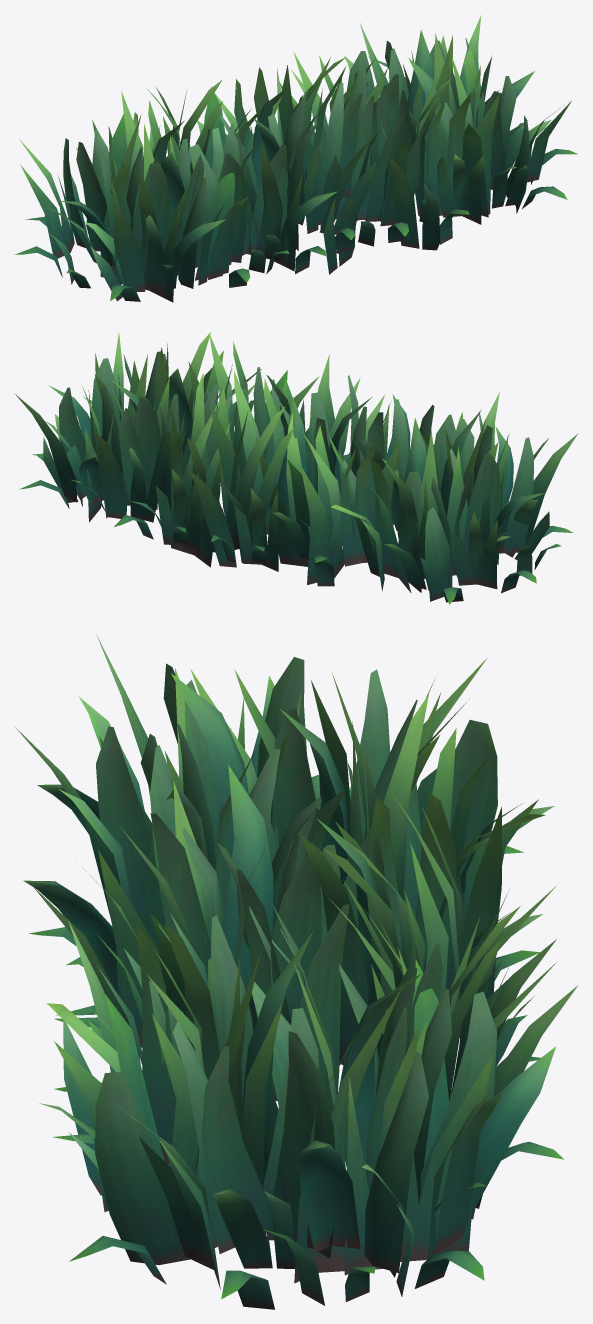
Rendered from pref_sm_4v4beachtech_WSJ_techgrass_alpha_yellow03_lv2.fbx.
The picture shows the model from 3 angles, top to bottom: view 1: azimuth 30°, elevation 25°; view 2: azimuth 150°, elevation 25°; view 3: azimuth 270°, elevation 25°; orthographic projection. The views are drawn at different scales.
Visible parts, largest first — view 1: pref_sm_4v4beachtech_WSJ_techgrass_alpha_yellow03_lv2; view 2: pref_sm_4v4beachtech_WSJ_techgrass_alpha_yellow03_lv2; view 3: pref_sm_4v4beachtech_WSJ_techgrass_alpha_yellow03_lv2.
Boxes of the visible parts, x1=… form: pref_sm_4v4beachtech_WSJ_techgrass_alpha_yellow03_lv2: x1=14, y1=15, x2=577, y2=302; pref_sm_4v4beachtech_WSJ_techgrass_alpha_yellow03_lv2: x1=14, y1=332, x2=578, y2=604; pref_sm_4v4beachtech_WSJ_techgrass_alpha_yellow03_lv2: x1=14, y1=634, x2=578, y2=1309.
Bounding box in the file's own units: 6.12 × 1.99 × 2.89.
